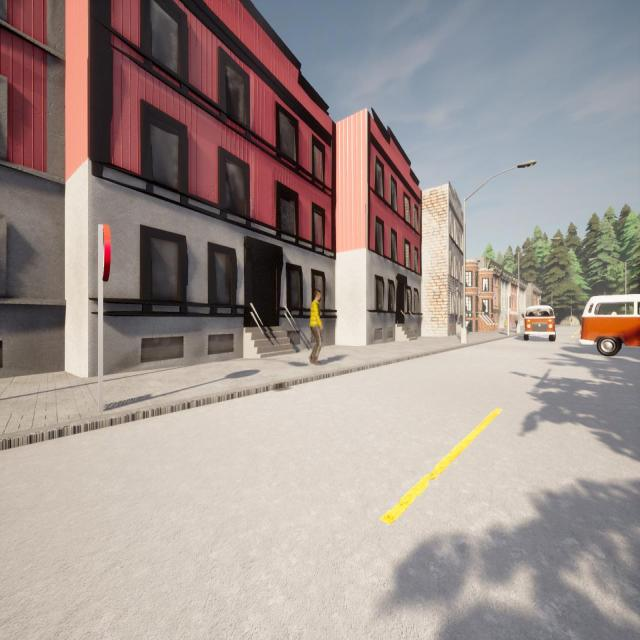Pedestrian: (309, 290, 323, 365), (514, 316, 518, 329), (504, 318, 507, 332)
Traffic_Signs: (100, 222, 112, 282)
Vehicle: (581, 294, 640, 356), (523, 305, 555, 341)
traffic_light: (507, 297, 511, 308)
